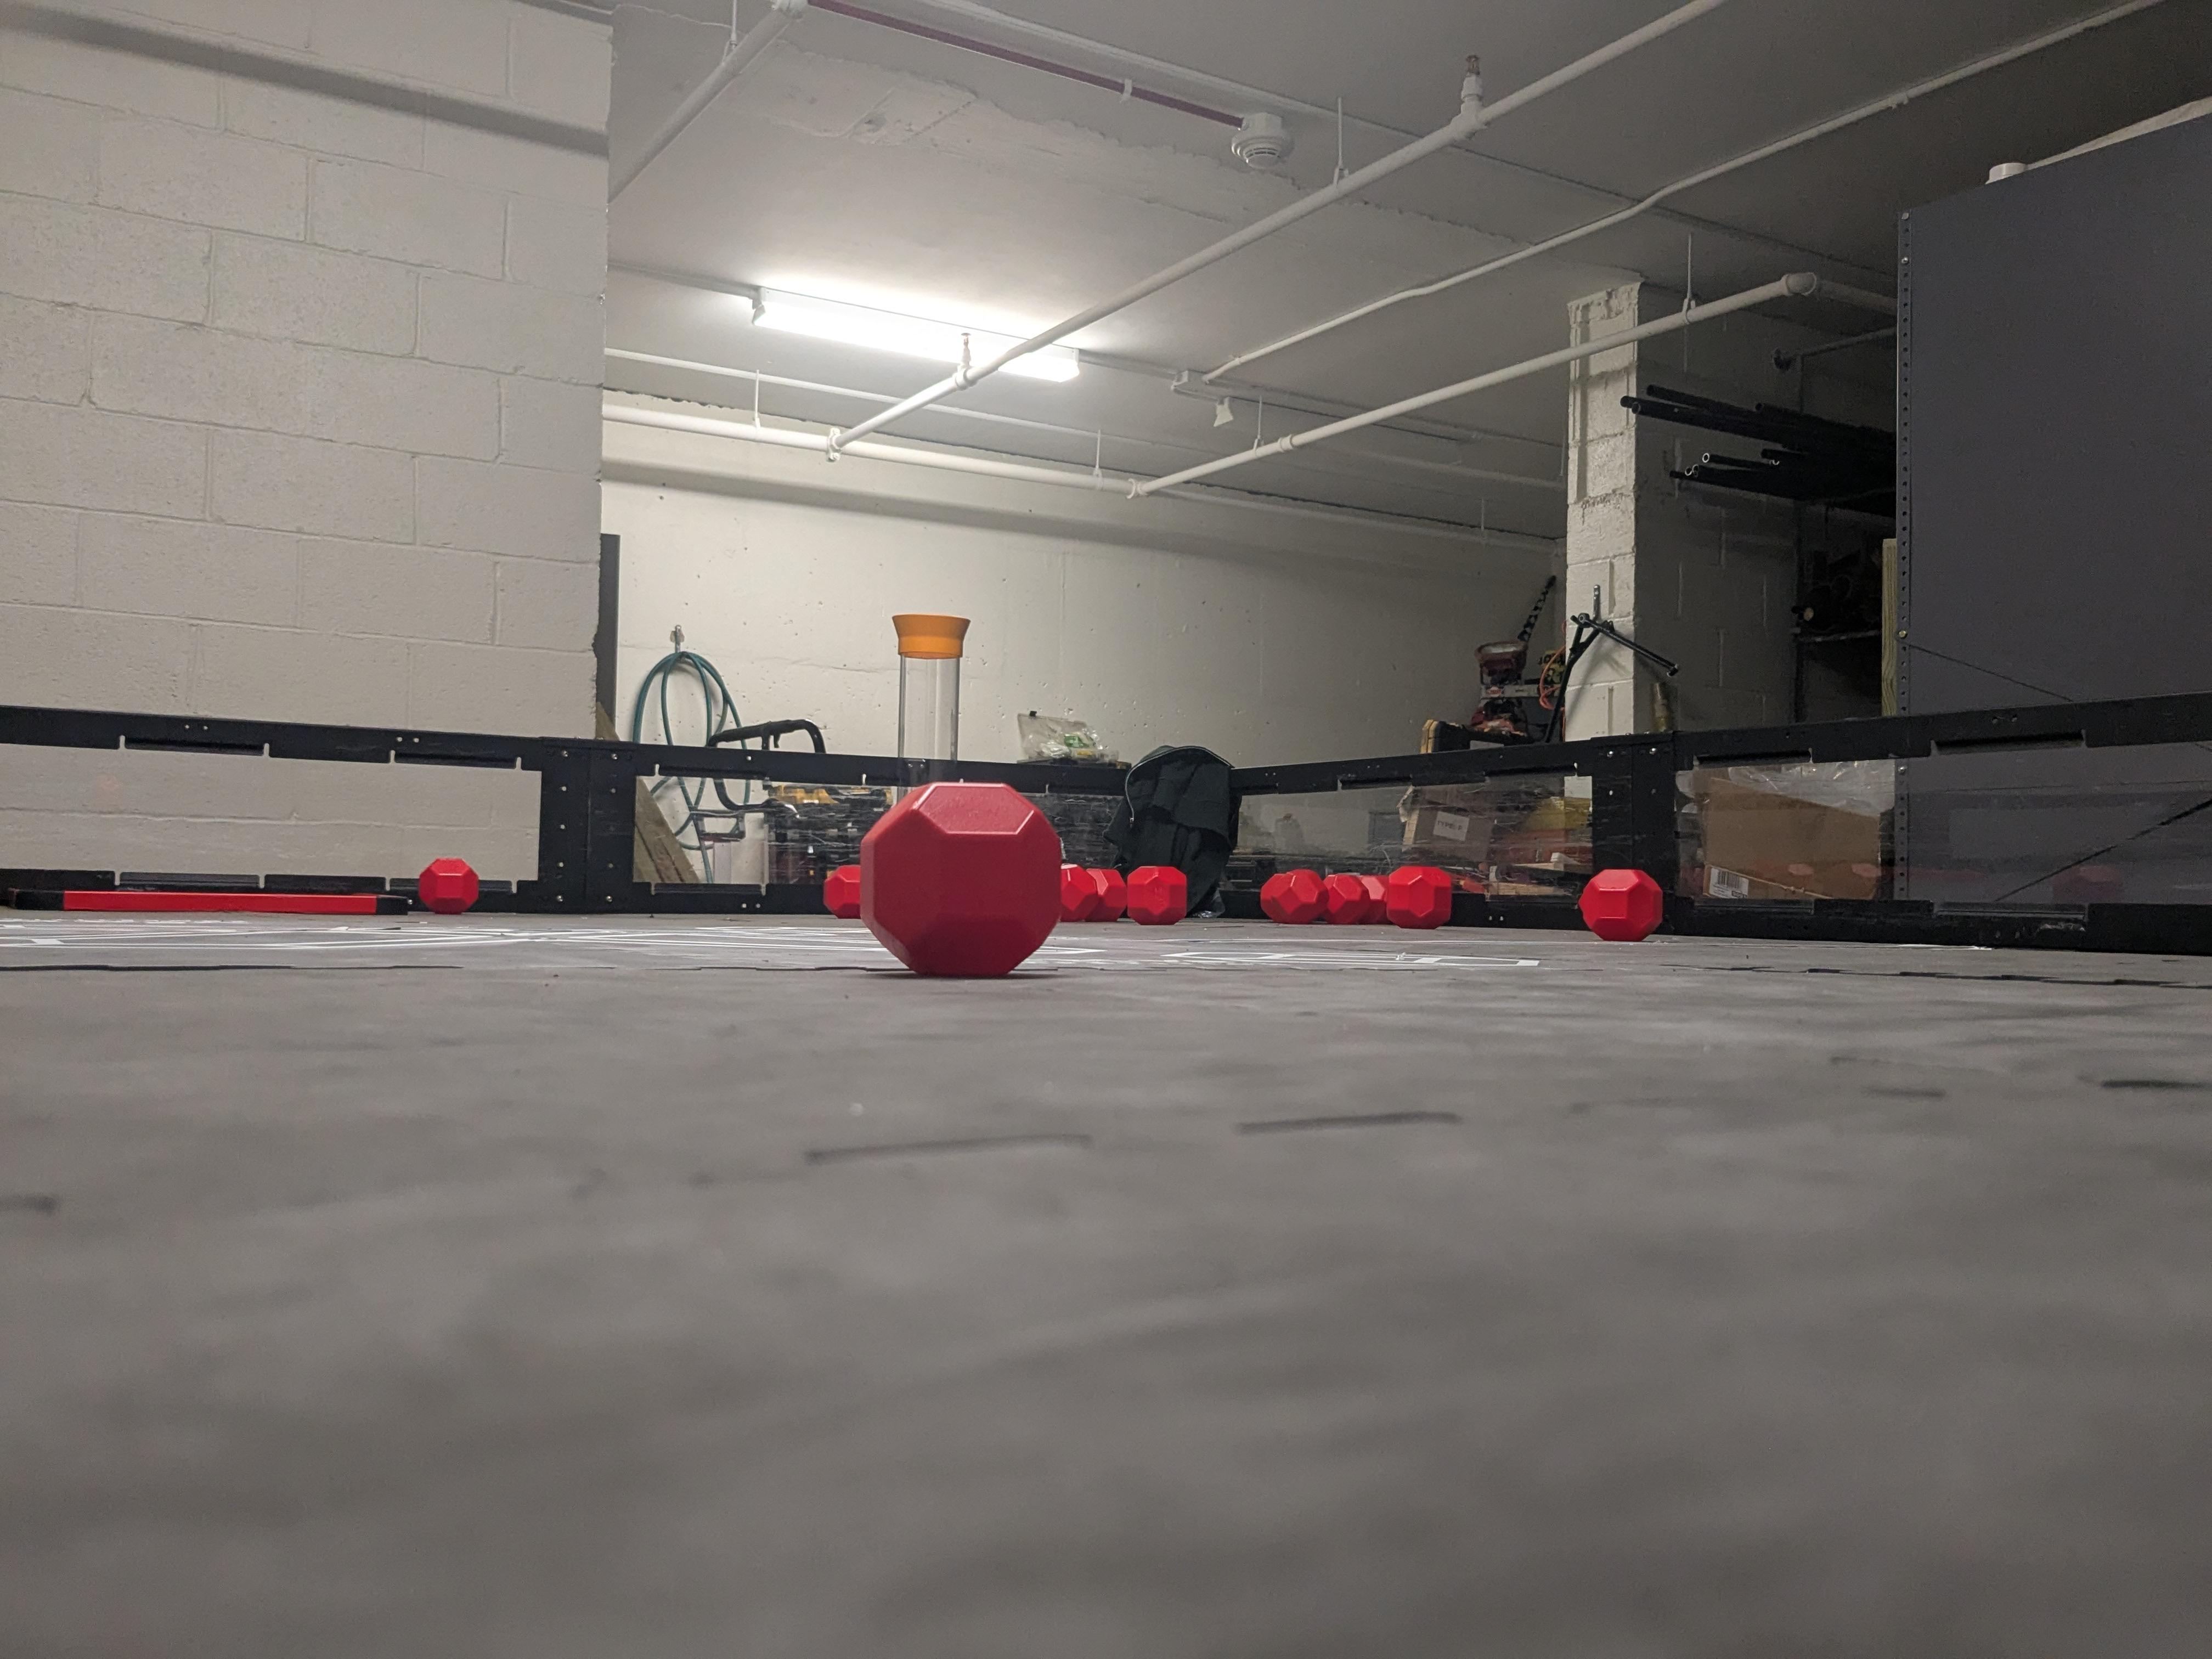Vex-Pieces-RED: (860, 782, 1062, 976), (1578, 870, 1663, 941), (1386, 866, 1453, 929), (1059, 864, 1127, 922), (1125, 866, 1188, 924), (1261, 868, 1325, 924), (416, 859, 479, 913), (1322, 873, 1385, 924), (822, 864, 862, 918)
